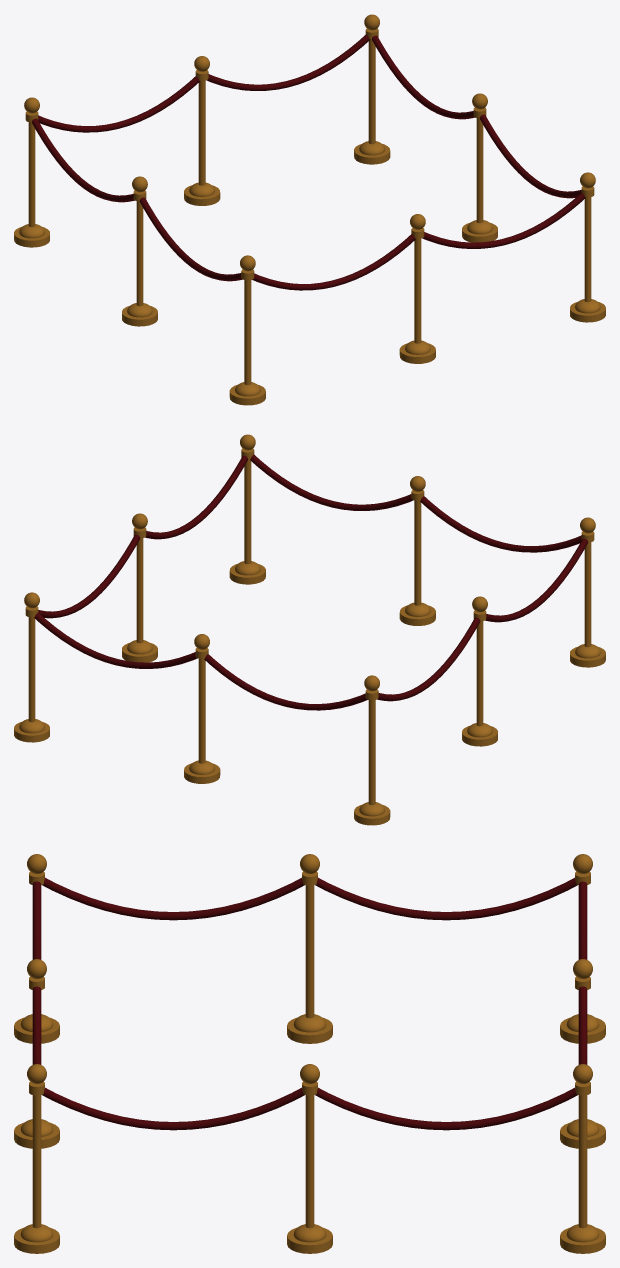
File: Rail_StoneAge_StandingStones.fbx
The picture shows the model from 3 angles, top to bottom: view 1: azimuth 30°, elevation 25°; view 2: azimuth 150°, elevation 25°; view 3: azimuth 270°, elevation 25°; orthographic projection. The views are drawn at different scales.
Parts seen in each view (by area): view 1: M_Barrier_Brass, M_Barrier_RedVelvet; view 2: M_Barrier_Brass, M_Barrier_RedVelvet; view 3: M_Barrier_Brass, M_Barrier_RedVelvet.
Part boxes in pixels (<box>): M_Barrier_Brass: <box>14,14,605,405</box>; M_Barrier_RedVelvet: <box>32,34,585,290</box>; M_Barrier_Brass: <box>14,434,605,825</box>; M_Barrier_RedVelvet: <box>34,454,587,710</box>; M_Barrier_Brass: <box>14,854,605,1253</box>; M_Barrier_RedVelvet: <box>32,877,587,1130</box>.
Size of the model in its own units: 283 by 103 by 309.
